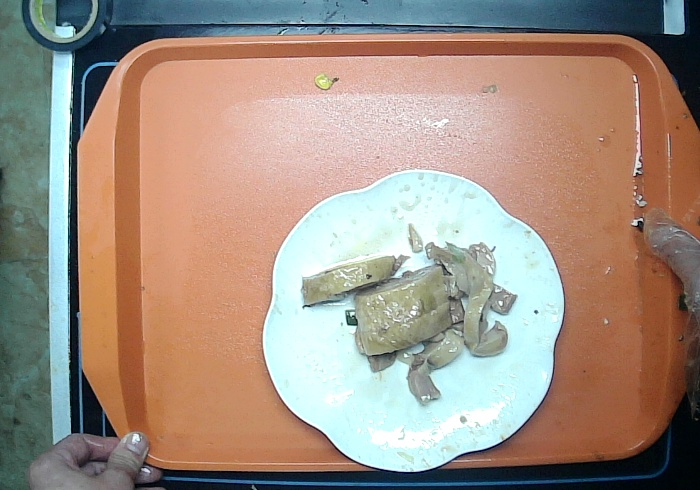HZYJPL-Bai_Se_Hua_Duo_Wan: (248, 149, 580, 480)
